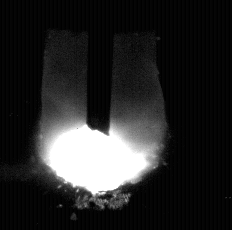arame: (87, 0, 112, 136)
poca: (37, 0, 164, 230)
